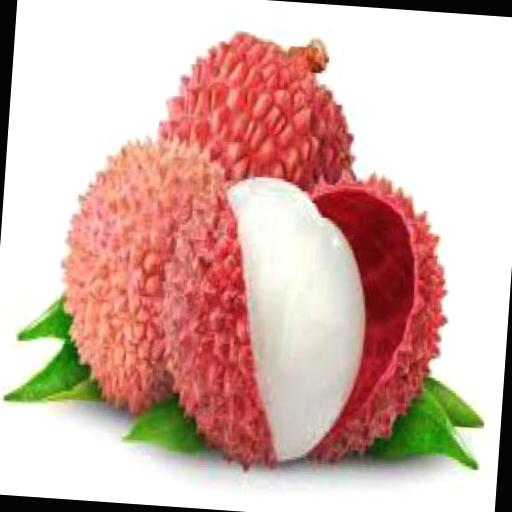biodegradable: (151, 157, 452, 486), (48, 130, 228, 424), (151, 20, 365, 184)
